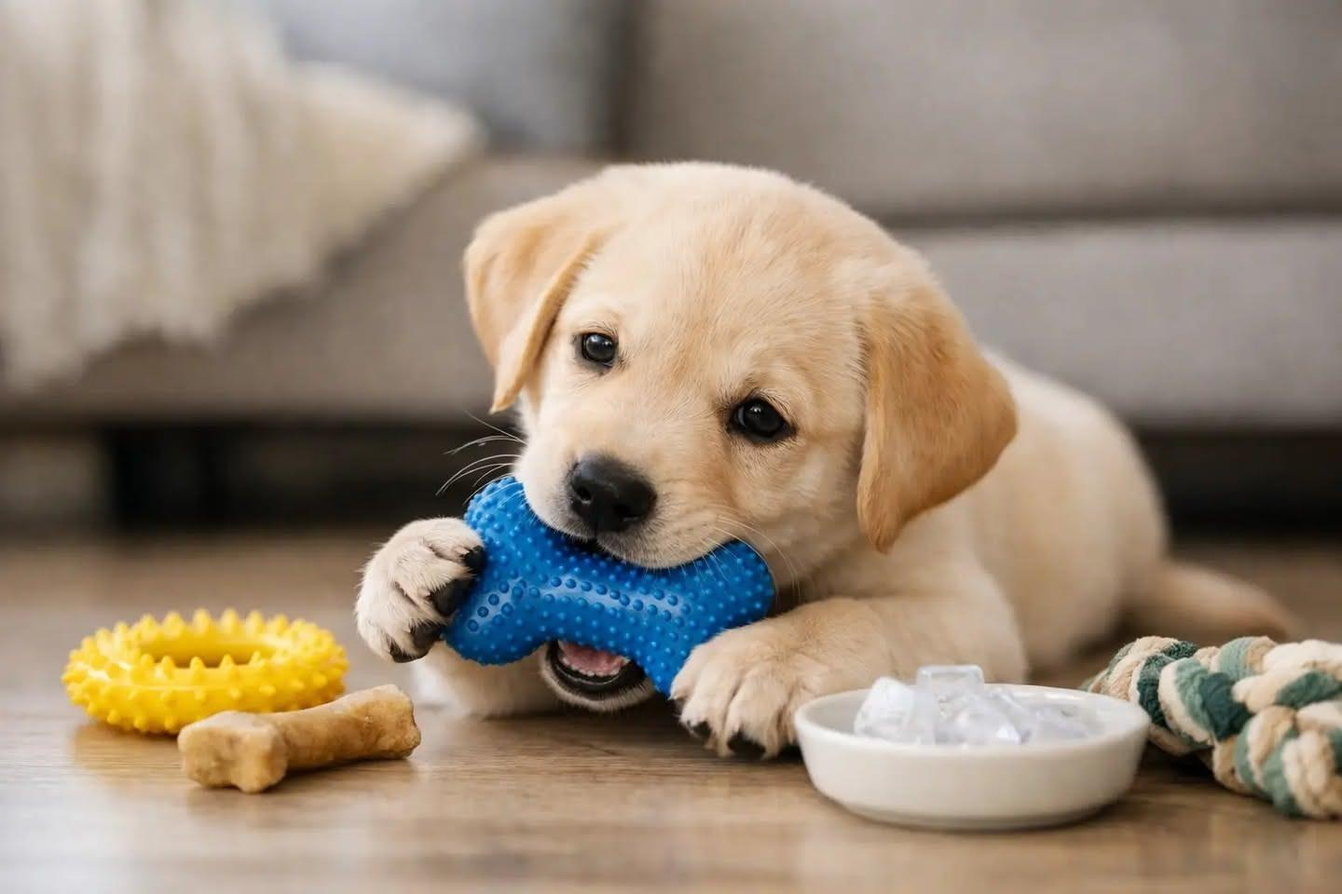puppy-dog: (350, 159, 1293, 760)
